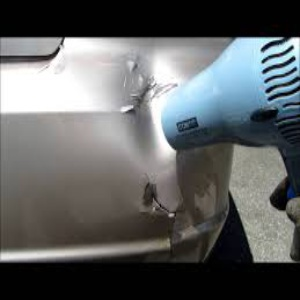bumper_scratch: (96, 51, 166, 235)
